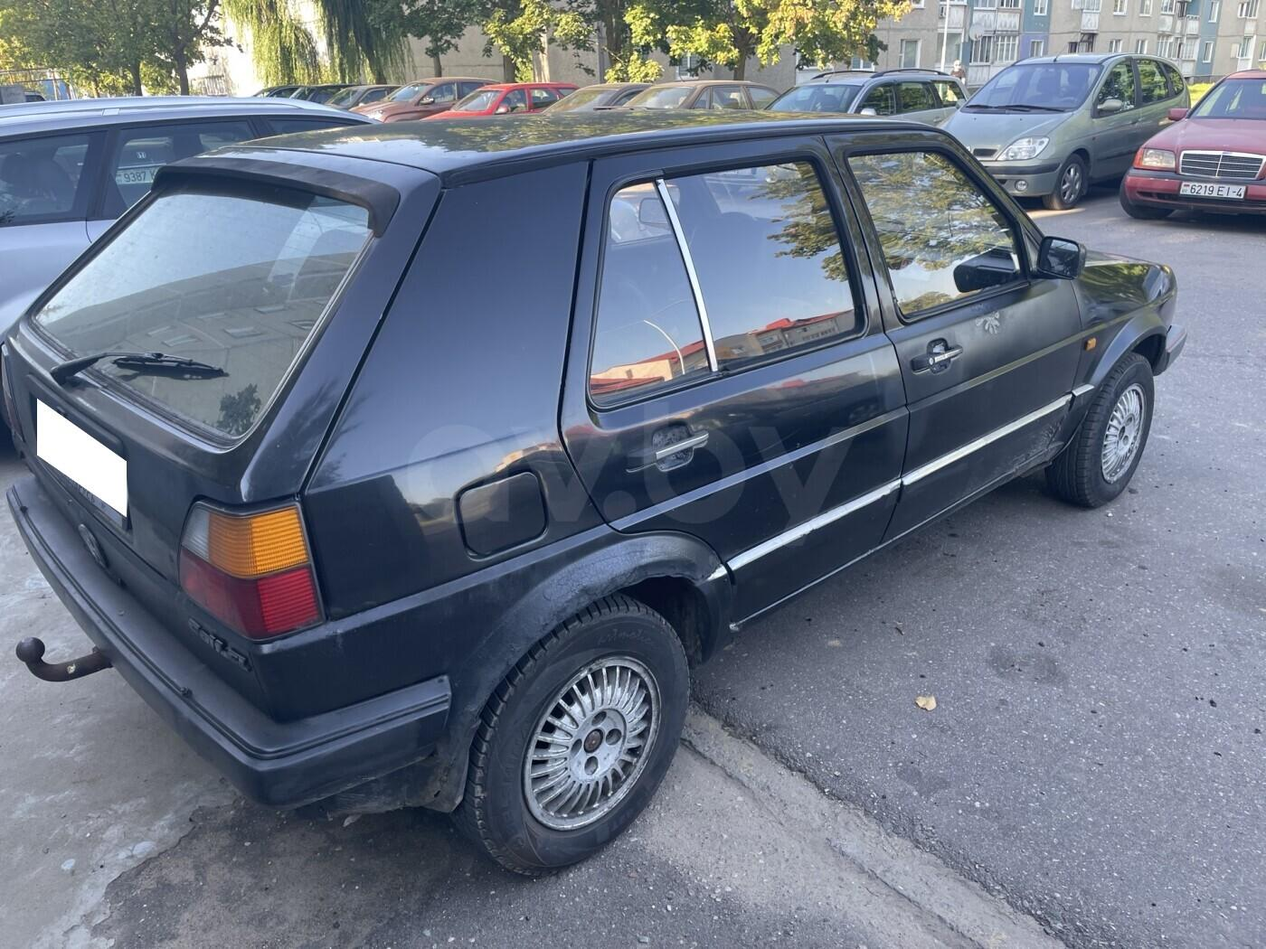Golf_1983-1992: (0, 111, 1191, 878)
